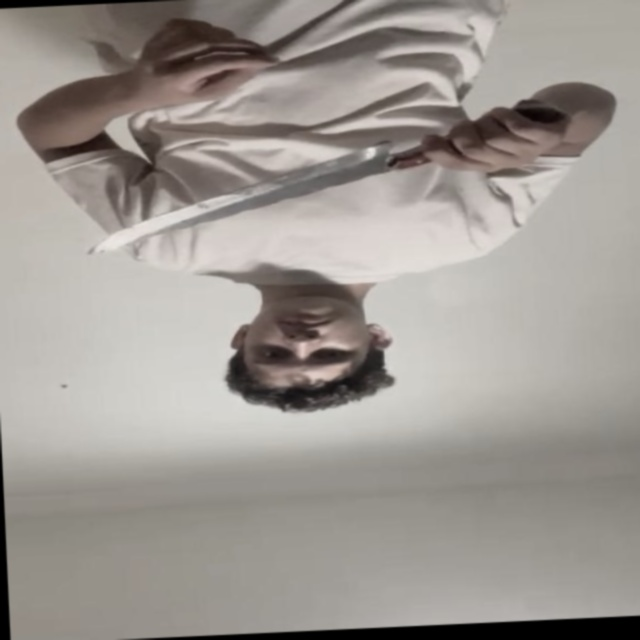Sharp-Object: (79, 141, 407, 256)
